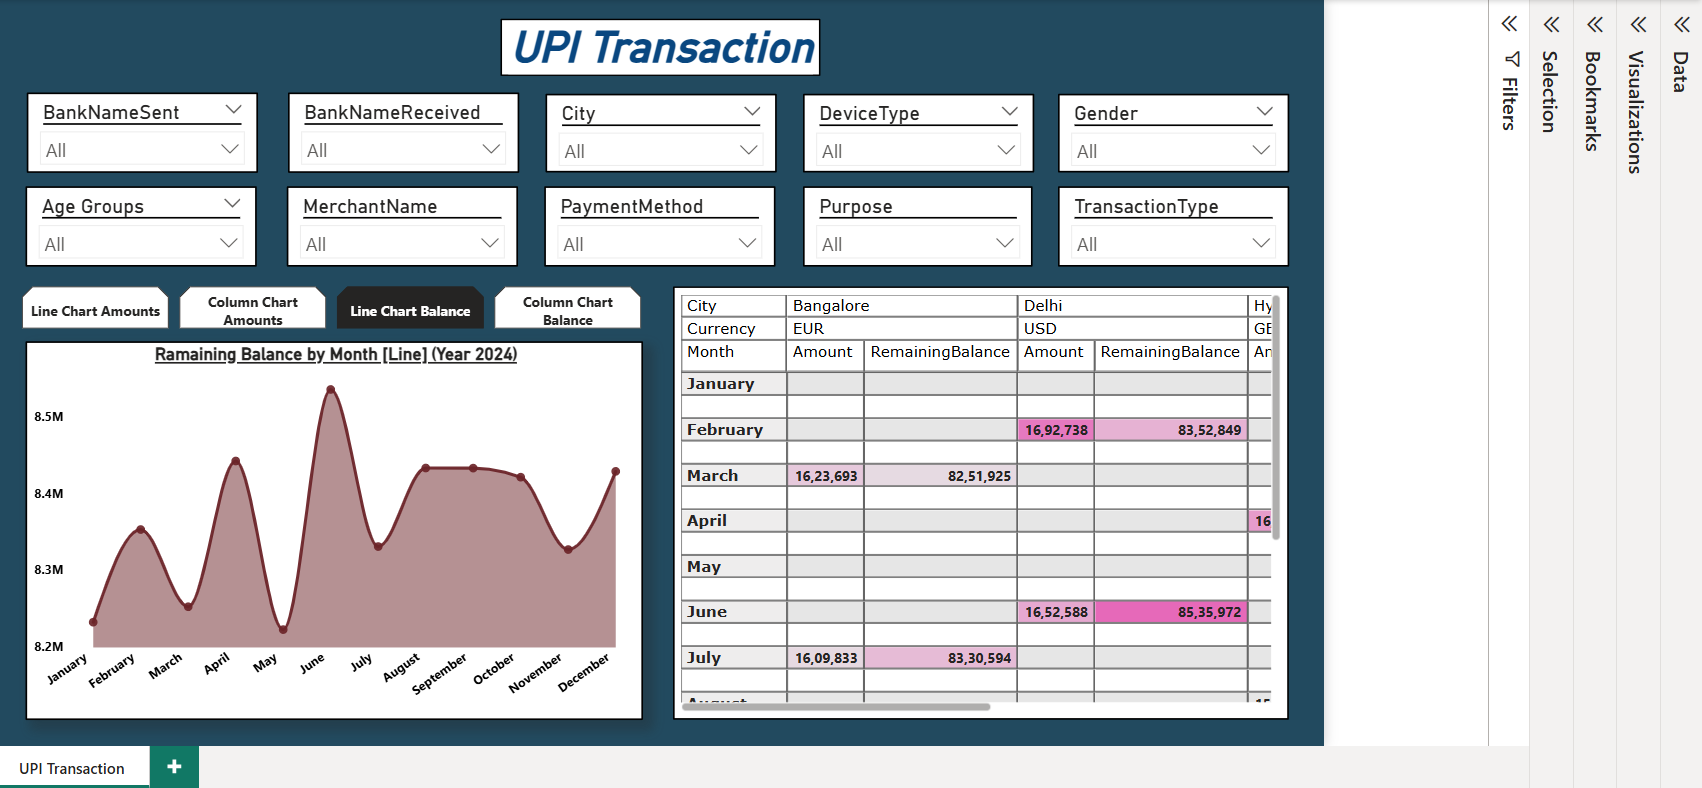

This screenshot's page, from the dashboard's own definition file:
{"tool":"powerbi","page":{"name":"UPI Transaction","canvas":[1280,720],"ordinal":0},"visuals":[{"type":"pivotTable","fields":{"Values":["Sum(UPI Transaction.Amount)","Sum(UPI Transaction.RemainingBalance)"],"Rows":["UPI Transaction.TransactionDate.Variation.Date Hierarchy.Month"],"Columns":["UPI Transaction.City","UPI Transaction.Currency"]},"box":[651.5,276.3,594.8,418.6],"z":1000},{"type":"lineChart","title":"Ramaining Balance by Month [Line]  (Year 2024)","fields":{"Category":["UPI Transaction.TransactionDate.Variation.Date Hierarchy.Month"],"Y":["Sum(UPI Transaction.RemainingBalance)"]},"box":[26.5,329.4,596,365.6],"z":4000},{"type":"slicer","fields":{"Values":["UPI Transaction.BankNameSent"]},"box":[27.7,89.3,223.2,77.2],"z":5000},{"type":"slicer","fields":{"Values":["UPI Transaction.DeviceType"]},"box":[776.9,90.5,223.2,76],"z":6000},{"type":"slicer","fields":{"Values":["UPI Transaction.BankNameReceived"]},"box":[279.9,89.3,223.2,77.2],"z":7000},{"type":"slicer","fields":{"Values":["UPI Transaction.City"]},"box":[528.4,90.5,223.2,76],"z":8000},{"type":"slicer","fields":{"Values":["UPI Transaction.Gender"]},"box":[1023.1,90.5,223.2,76],"z":9000},{"type":"slicer","fields":{"Values":["UPI Transaction.Age Groups"]},"box":[26.5,179.8,223.2,77.2],"z":10000},{"type":"slicer","fields":{"Values":["UPI Transaction.Purpose"]},"box":[776.9,179.8,222,77.2],"z":11000},{"type":"slicer","fields":{"Values":["UPI Transaction.MerchantName"]},"box":[278.7,179.8,223.2,77.2],"z":12000},{"type":"slicer","fields":{"Values":["UPI Transaction.PaymentMethod"]},"box":[527.2,179.8,223.2,77.2],"z":13000},{"type":"slicer","fields":{"Values":["UPI Transaction.TransactionType"]},"box":[1023.1,179.8,223.2,77.2],"z":14000},{"type":"textbox","title":"UPI Transaction","box":[485,18.1,308.8,55.5],"z":15000},{"type":"bookmarkNavigator","box":[22.9,276.3,599.6,41],"z":16000}]}

Visuals, with their boxes in screenshot pixels (x1, y1, x2, y2):
pivotTable - Sum(UPI Transaction.Amount) x Sum(UPI Transaction.RemainingBalance): box=[670, 284, 1290, 720]
"Ramaining Balance by Month [Line]  (Year 2024)" lineChart: box=[19, 339, 640, 720]
slicer - UPI Transaction.BankNameSent: box=[20, 89, 253, 169]
slicer - UPI Transaction.DeviceType: box=[801, 90, 1034, 169]
slicer - UPI Transaction.BankNameReceived: box=[283, 89, 516, 169]
slicer - UPI Transaction.City: box=[542, 90, 775, 169]
slicer - UPI Transaction.Gender: box=[1058, 90, 1290, 169]
slicer - UPI Transaction.Age Groups: box=[19, 183, 251, 263]
slicer - UPI Transaction.Purpose: box=[801, 183, 1032, 263]
slicer - UPI Transaction.MerchantName: box=[282, 183, 514, 263]
slicer - UPI Transaction.PaymentMethod: box=[541, 183, 773, 263]
slicer - UPI Transaction.TransactionType: box=[1058, 183, 1290, 263]
"UPI Transaction" textbox: box=[497, 14, 819, 72]
bookmarkNavigator: box=[15, 284, 640, 326]
